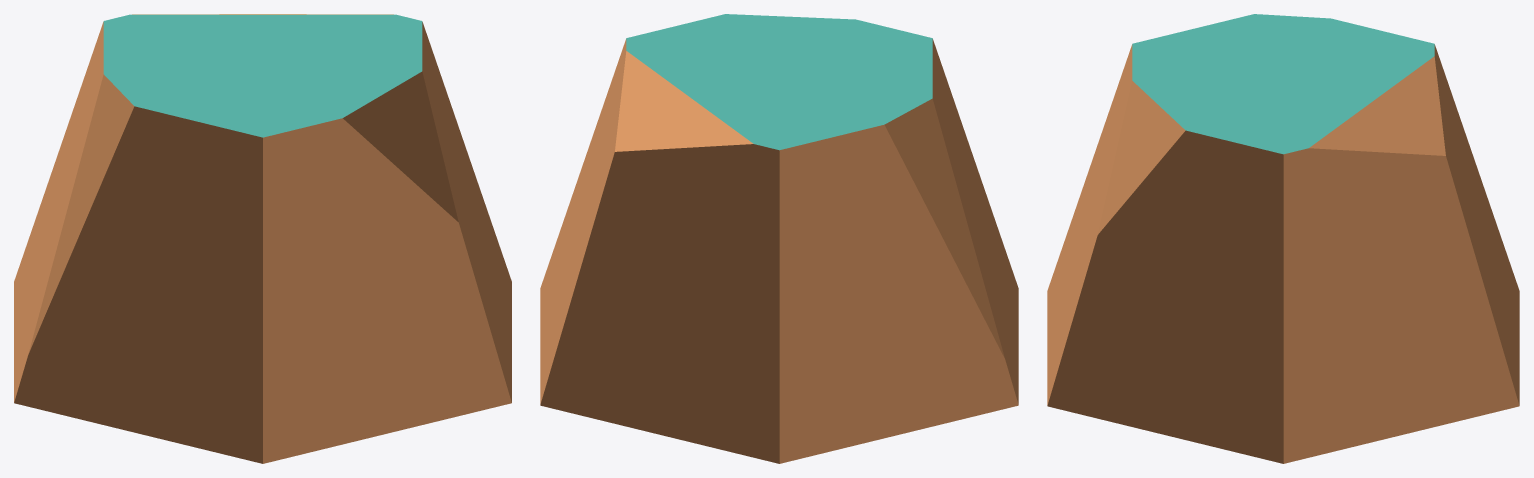
File: rock_small4.obj
3 views of the same model, side by side, from view 1: azimuth 30°, elevation 25°; view 2: azimuth 150°, elevation 25°; view 3: azimuth 270°, elevation 25° (orthographic). The views are drawn at different scales.
Visible parts, largest first — view 1: rock_small4; view 2: rock_small4; view 3: rock_small4.
Boxes of the visible parts, <box> form: rock_small4: <box>14,14,511,463</box>; rock_small4: <box>540,14,1018,463</box>; rock_small4: <box>1047,14,1519,463</box>.
Bounding box in the file's own units: 4.26 × 2.31 × 3.69.
